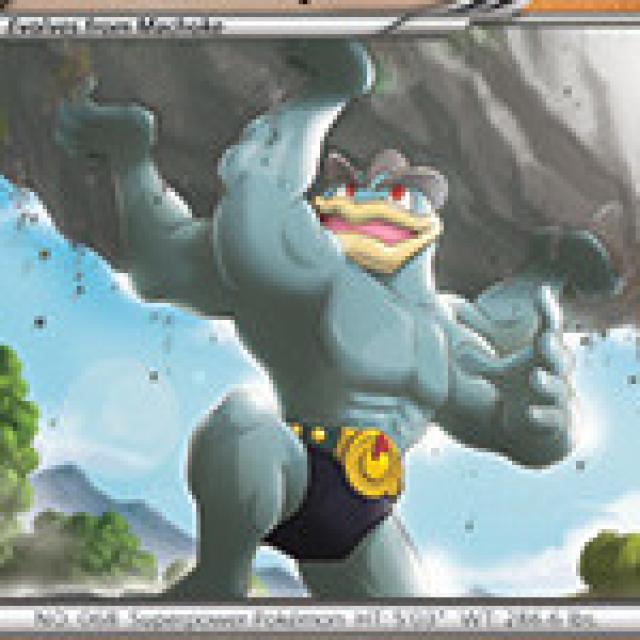Machamp: (162, 136, 494, 604)
